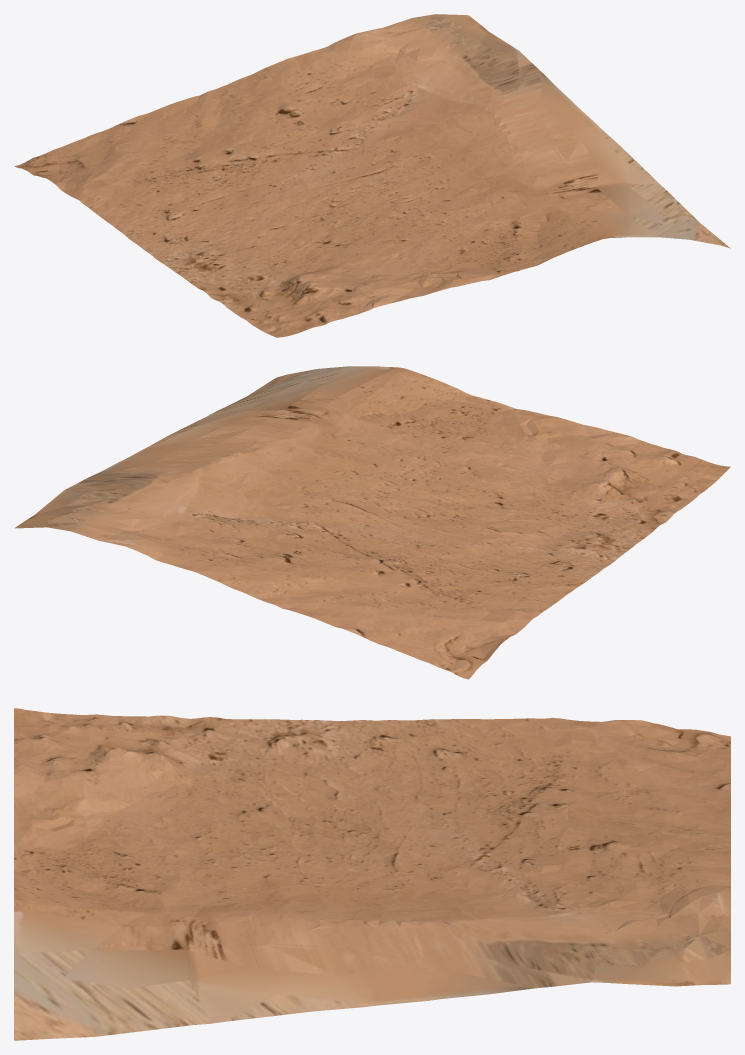
3 renders of one model, top to bottom at view 1: azimuth 30°, elevation 25°; view 2: azimuth 150°, elevation 25°; view 3: azimuth 270°, elevation 25°, orthographic. The views are drawn at different scales.
Size of the model in its own units: 4.18 by 0.4586 by 4.18.
Materials: 2 (2 with a texture image).
